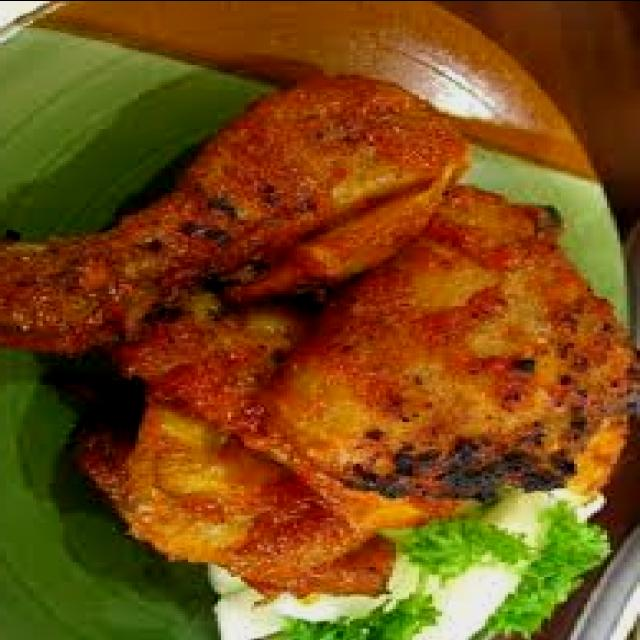ayam bakar: (0, 74, 465, 354), (261, 182, 633, 500)
